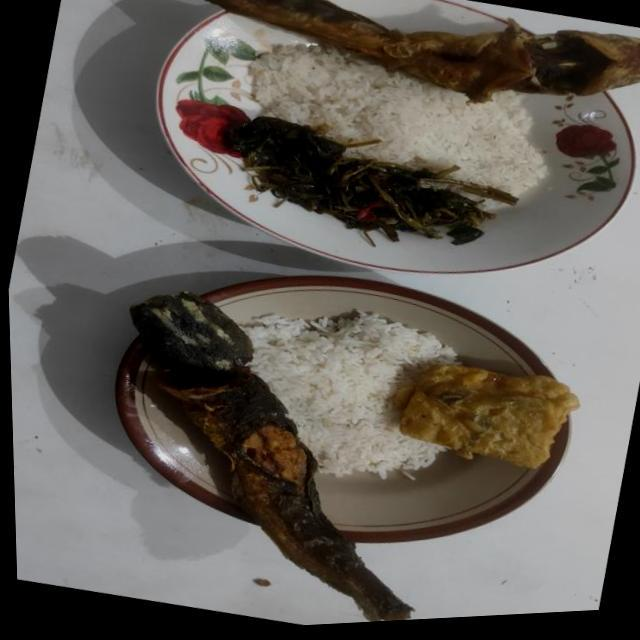nasi_putih: (250, 44, 546, 194), (240, 310, 457, 477)
tumis_kangkung: (224, 117, 517, 246)
